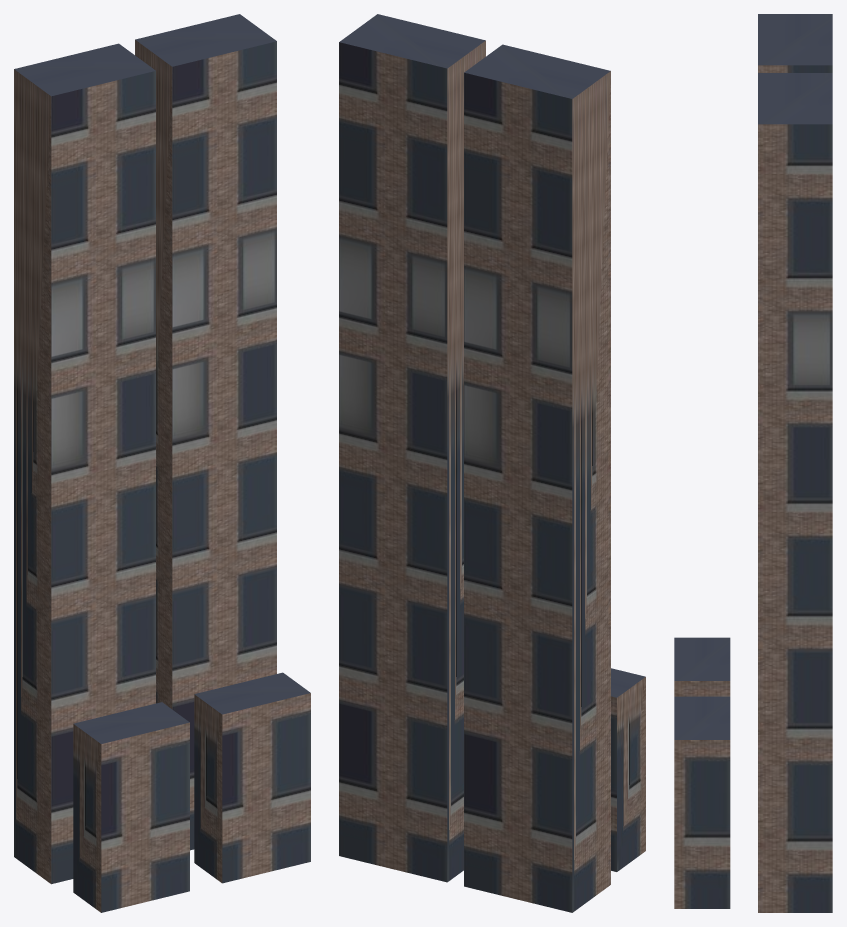
The model's file is block_25.obj.
3 renders of one model, left to right at view 1: azimuth 30°, elevation 25°; view 2: azimuth 150°, elevation 25°; view 3: azimuth 270°, elevation 25°, orthographic. The views are drawn at different scales.
Visible parts, largest first — view 1: b0, b2, b1, b3; view 2: b0, b2, b1; view 3: b2, b3, b0, b1.
Boxes of the visible parts, x1,y1,x2,y2 form: b0: [14, 43, 155, 884]; b2: [135, 14, 276, 850]; b1: [73, 702, 189, 912]; b3: [194, 672, 310, 883]; b0: [464, 44, 610, 912]; b2: [339, 14, 485, 882]; b1: [611, 668, 645, 871]; b2: [758, 73, 832, 912]; b3: [674, 696, 730, 908]; b0: [758, 14, 832, 72]; b1: [674, 637, 730, 696].
Bounding box in the file's own units: 4.2 × 14 × 2.55.
